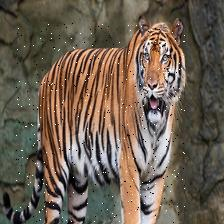tiger: (15, 23, 184, 224)
